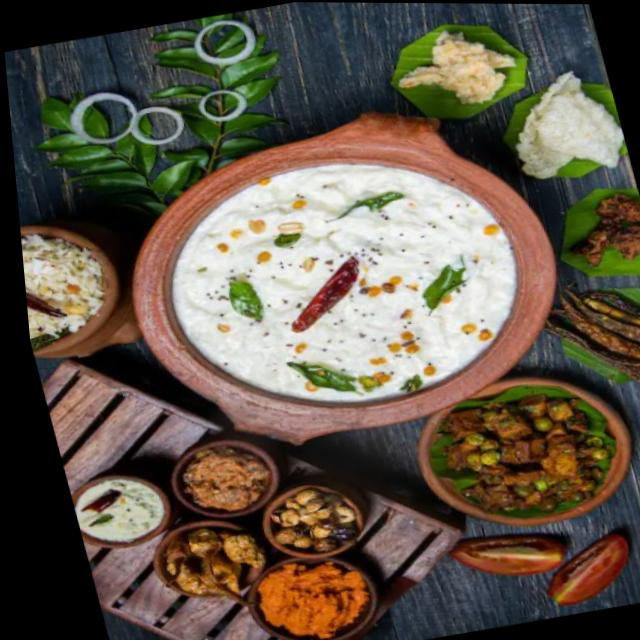CURD RICE: (173, 165, 522, 407)
